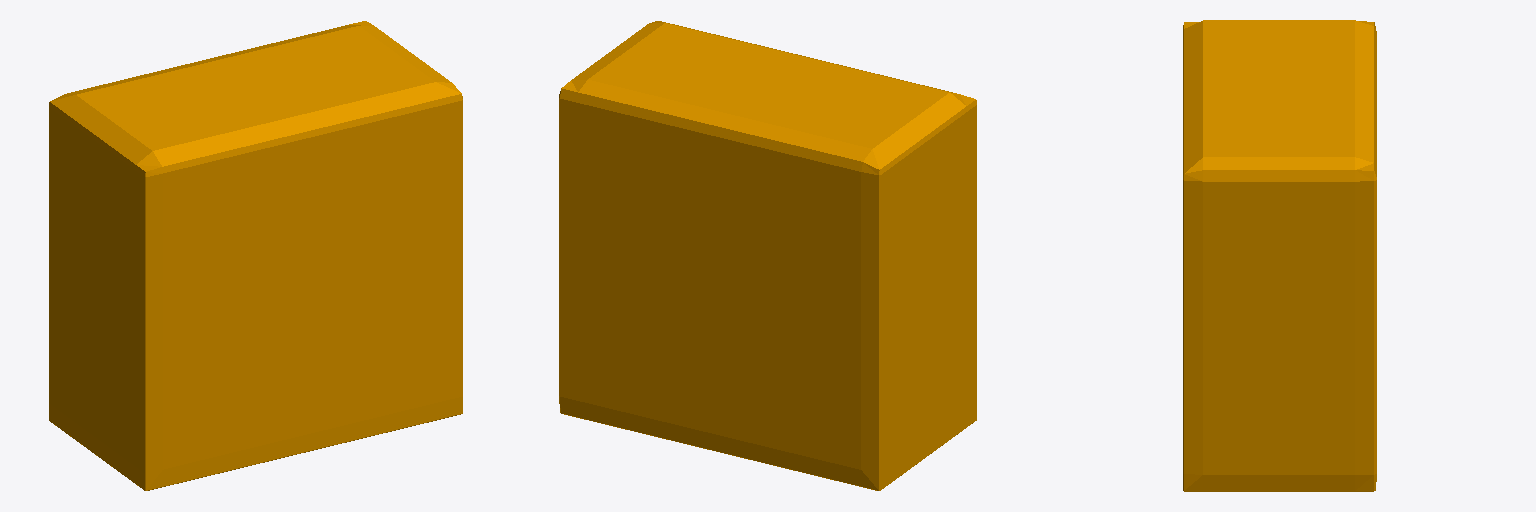
URDF robot description (cylinder_box_44):
<?xml version="1.0" encoding="utf-8"?>  <robot name="cylinder_box_44">   <link name="cylinder_box_44">     <visual>       <geometry>         <mesh filename="../meshes/box/box_44.stl" scale="1 1 1"/>       </geometry>     </visual>     <collision>       <geometry>         <mesh filename="../meshes/box/box_44.stl" scale="1 1 1"/>       </geometry>     </collision>     <inertial>        <origin         xyz="0 0 0"         rpy="0 0 0" />       <mass value="0.463171128473346"/>       <origin rpy="0 0 0" xyz="0 0 0"/>       <inertia ixx="0.0004422520805089587" ixy="-1.7032834001824216e-07" ixz="-3.8713150103842575e-07" iyy="0.0006979080474326494" iyz="-2.2425035425050113e-07" izz="0.00045654804356565155"/>     </inertial>   </link>  </robot>

--- Facts derived from the render (not from the file) ---
The picture shows the robot from 3 angles, left to right: view 1: azimuth 30°, elevation 25°; view 2: azimuth 150°, elevation 25°; view 3: azimuth 270°, elevation 25°; orthographic projection.
Robot: cylinder_box_44 — 1 links, 0 joints (none); root link cylinder_box_44; default pose: all joints at 0.
Visible links, largest first — view 1: cylinder_box_44; view 2: cylinder_box_44; view 3: cylinder_box_44.
Boxes of the visible links, x1=… form: cylinder_box_44: x1=49, y1=21, x2=462, y2=490; cylinder_box_44: x1=559, y1=21, x2=976, y2=490; cylinder_box_44: x1=1183, y1=20, x2=1376, y2=491.
Size in the robot's own frame: 0.0963 by 0.0512 by 0.0945 metres.
Meshes: 1 distinct files referenced, 1 mesh visuals loaded (1 binary STL).